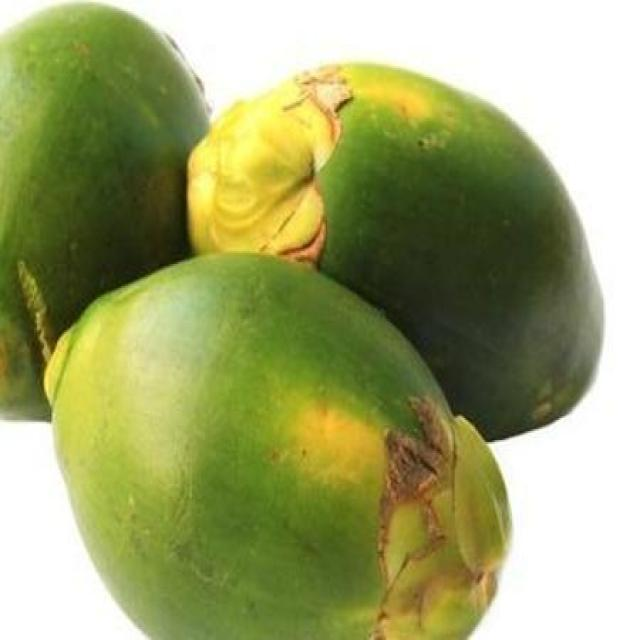good: (44, 253, 509, 638), (185, 64, 607, 446), (0, 2, 212, 424)
